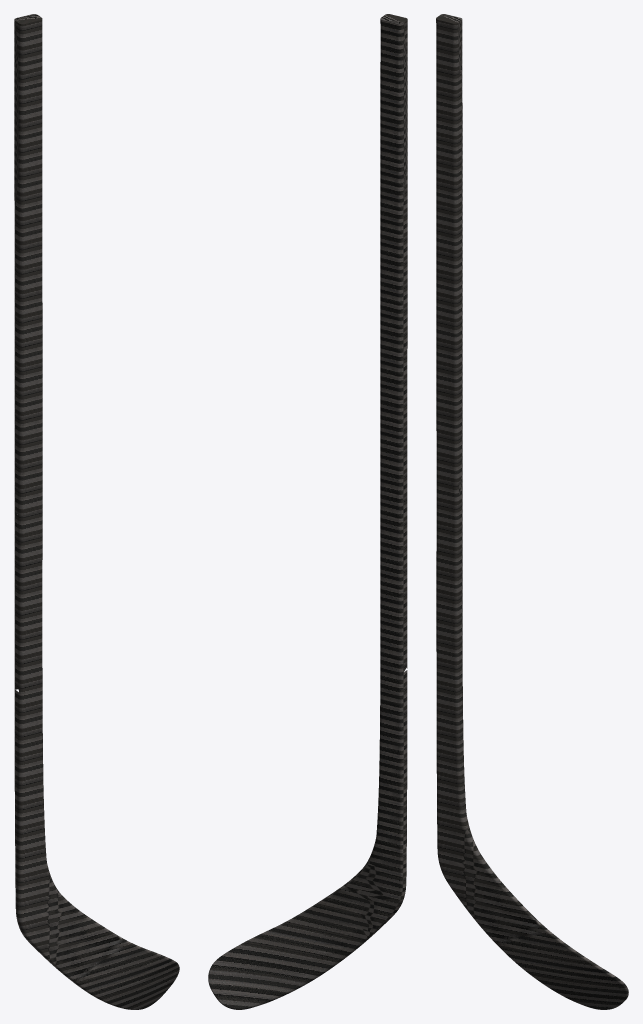
3 renders of one model, left to right at view 1: azimuth 30°, elevation 25°; view 2: azimuth 150°, elevation 25°; view 3: azimuth 330°, elevation 25°, orthographic. The views are drawn at different scales.
Visible parts, largest first — view 1: geometry_0; view 2: geometry_0; view 3: geometry_0.
Part boxes in pixels (x1,y1,x2,y2): geometry_0: (14, 14, 179, 1009); geometry_0: (208, 14, 407, 1009); geometry_0: (436, 14, 628, 1009).
Bounding box in the file's own units: 235 × 1278 × 63.78.
Materials: 1 (1 with a texture image).
